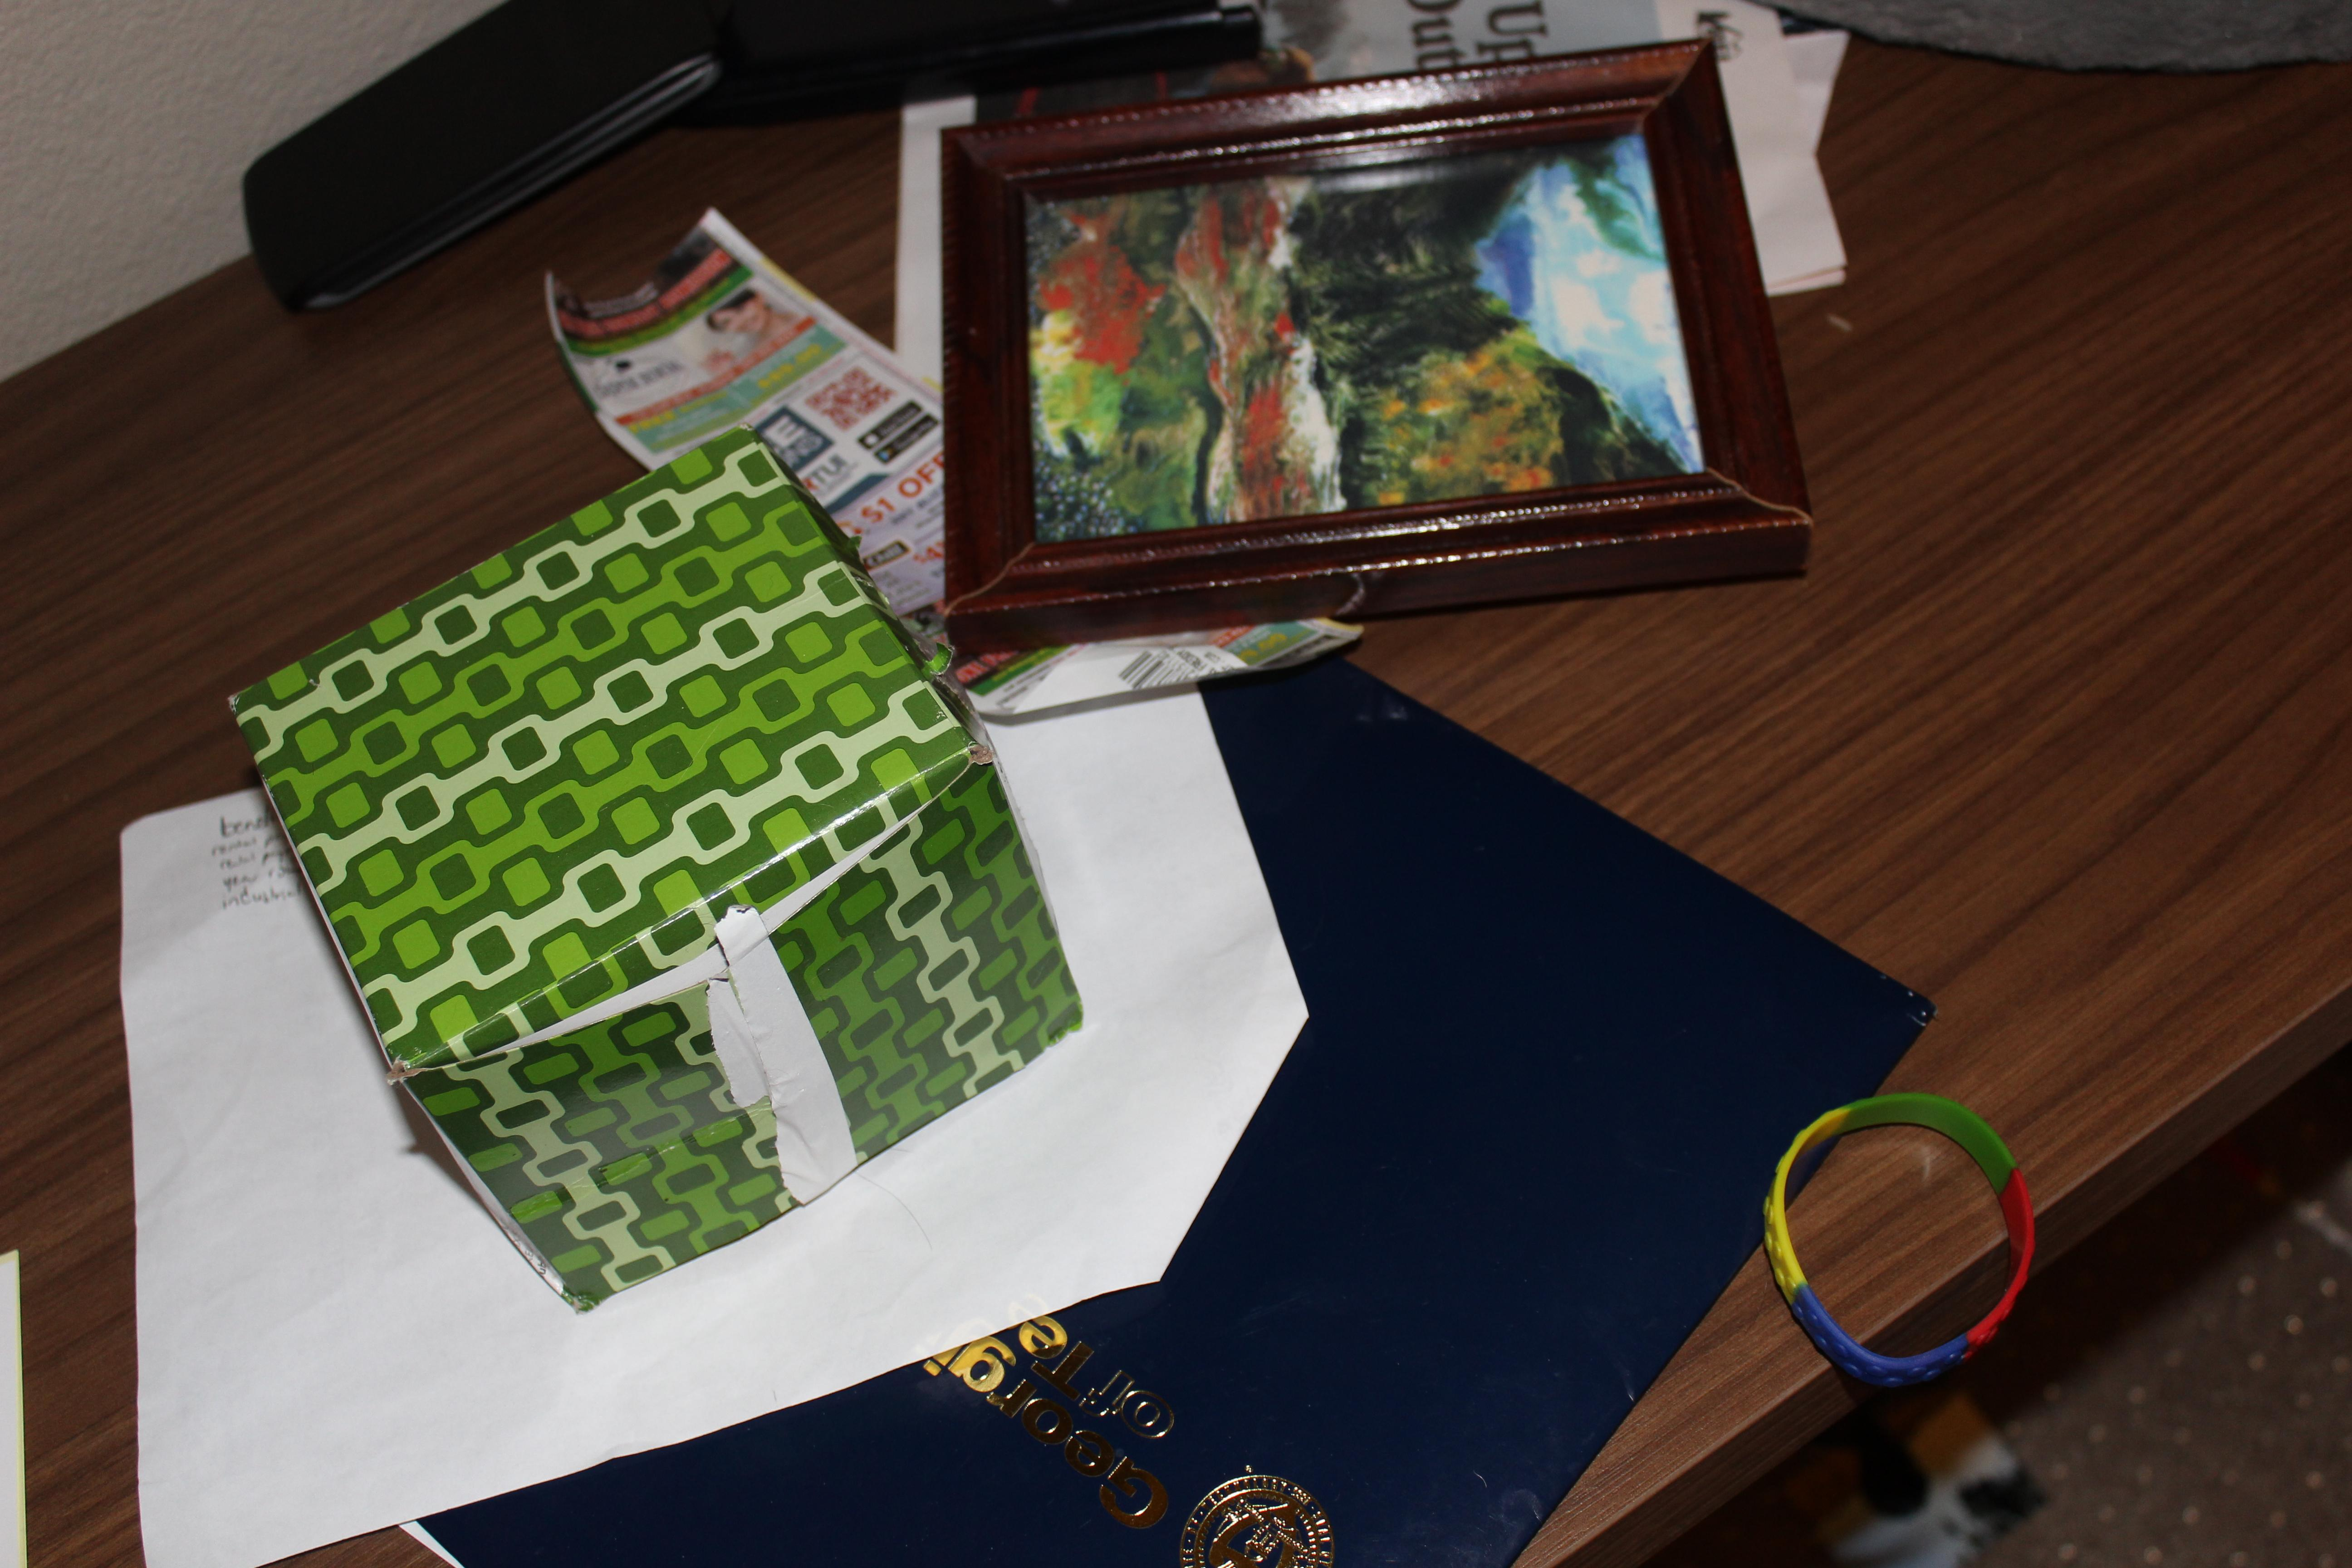legoBracelet: (1734, 1066, 2068, 1416)
